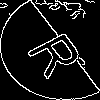R: (25, 25, 94, 80)
